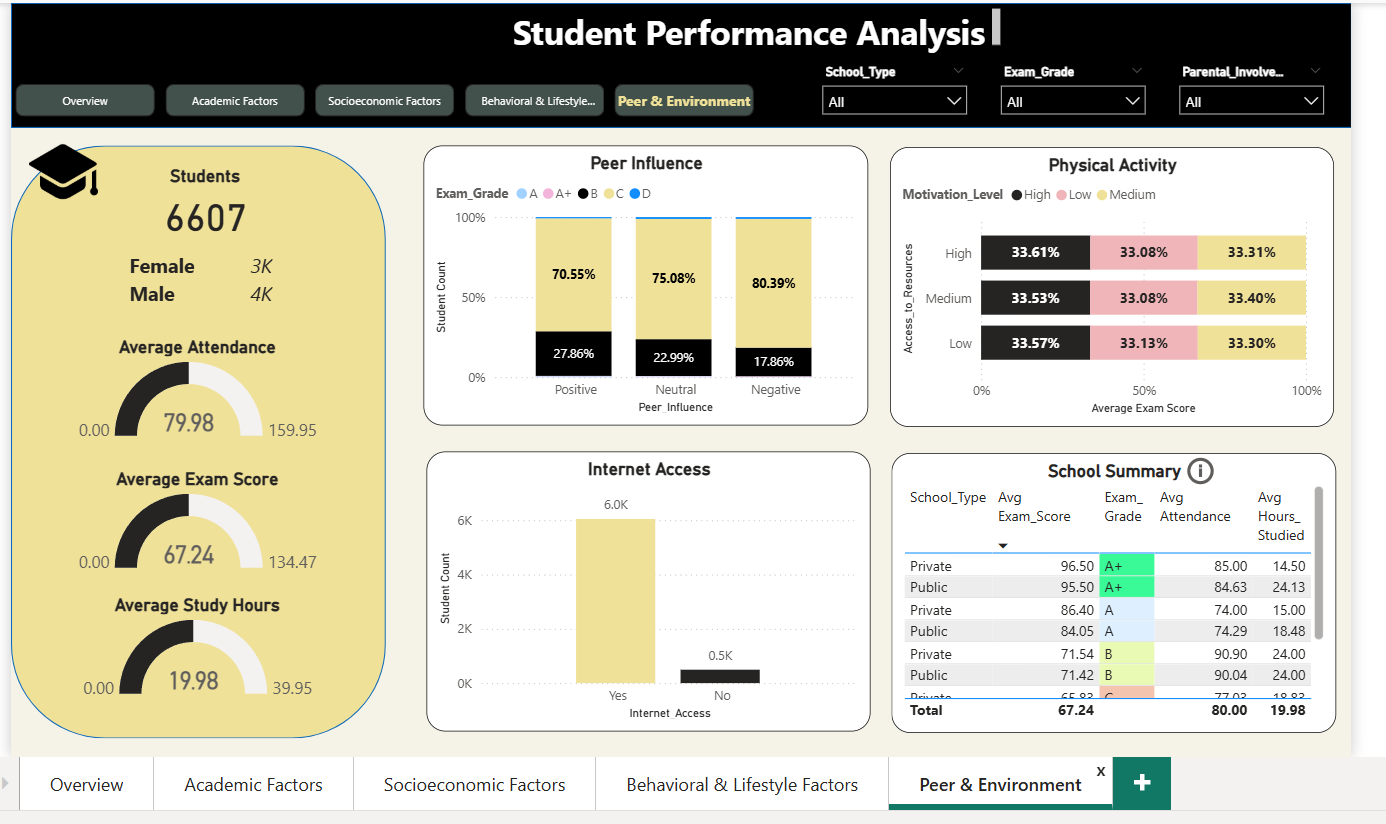

The page's visual inventory and layout, read from the dashboard file:
{"tool":"powerbi","page":{"name":"Peer & Environment","canvas":[1280,720],"ordinal":4},"visuals":[{"type":"shape","box":[0,136.8,357.9,566.3],"z":0},{"type":"group","id":"g1","title":"Group 1","box":[6.4,206.6,265.6,108.2],"z":0,"group":"g2"},{"type":"hundredPercentStackedColumnChart","title":"Peer Influence","fields":{"Category":["Students.Peer_Influence"],"Series":["Students.Exam_Grade"],"Y":["Students.Student Count"]},"box":[393.9,136.8,424.7,267.2],"z":1000},{"type":"card","title":"Students","fields":{"Values":["Students.Student Count"]},"box":[37,154.3,299,74.8],"z":1000,"group":"g2"},{"type":"cardVisual","title":"Students","fields":{"Data":["Students.Student Count"]},"box":[6.4,206.6,265.6,108.2],"z":1000,"group":"g1"},{"type":"hundredPercentStackedBarChart","title":"Physical Activity","fields":{"Category":["Students.Access_to_Resources"],"Y":["Students.Average Exam Score"],"Series":["Students.Motivation_Level"]},"box":[839.8,137.3,424.2,267.2],"z":2000},{"type":"gauge","fields":{"Y":["Students.Average Study Hours"]},"box":[16,564.7,324.5,105],"z":2000,"group":"g2"},{"type":"clusteredColumnChart","title":"Internet Access","fields":{"Category":["Students.Internet_Access"],"Y":["Students.Student Count"]},"box":[396.7,428.9,424.2,267.2],"z":3000},{"type":"gauge","fields":{"Y":["Students.Average Exam Score"]},"box":[16,443.8,324.5,105],"z":3000,"group":"g2"},{"type":"gauge","fields":{"Y":["Students.Average Attendance"]},"box":[16.3,318,324.5,105],"z":4000,"group":"g2"},{"type":"tableEx","title":"School Summary","fields":{"Values":["Students.School_Type","Avg(Students.Exam_Score)","Students.Exam_Grade","Avg(Students.Attendance)","Avg(Students.Hours_Studied)"]},"box":[841.4,429.5,424.7,267.2],"z":4000},{"type":"actionButton","box":[0,0,100,40],"z":5000},{"type":"shape","box":[0,0,1280.4,119.3],"z":6000},{"type":"slicer","fields":{"Values":["Students.Parental_Involvement"]},"box":[1106.5,52.5,158.1,57.3],"z":6000,"group":"g3"},{"type":"slicer","fields":{"Values":["Students.Exam_Grade"]},"box":[935.8,52.5,158.1,57.3],"z":7000,"group":"g3"},{"type":"group","id":"g2","title":"Group 2","box":[6.4,154.3,334,515.4],"z":7000},{"type":"slicer","fields":{"Values":["Students.School_Type"]},"box":[765.1,52.5,158.1,57.3],"z":8000,"group":"g3"},{"type":"image","box":[7.2,116,85.9,90.2],"z":8000},{"type":"pageNavigator","box":[4.8,77.9,707.8,31.8],"z":9000},{"type":"group","id":"g3","title":"Group 3","box":[765.1,52.5,499.5,57.3],"z":10000},{"type":"textbox","box":[474,0,475.6,55.7],"z":11000},{"type":"actionButton","box":[1118.7,429.7,38.7,34.4],"z":12000}]}

Visuals, with their boxes on the page's 1280x720 design canvas (x1, y1, x2, y2). These are canvas units, not pixel positions in the 1386x824 screenshot, which may show the page scaled, cropped or inside an application window:
shape: 0/137/358/703
"Group 1" group: 6/207/272/315
"Peer Influence" hundredPercentStackedColumnChart: 394/137/819/404
"Students" card: 37/154/336/229
"Students" cardVisual: 6/207/272/315
"Physical Activity" hundredPercentStackedBarChart: 840/137/1264/404
gauge - Students.Average Study Hours: 16/565/340/670
"Internet Access" clusteredColumnChart: 397/429/821/696
gauge - Students.Average Exam Score: 16/444/340/549
gauge - Students.Average Attendance: 16/318/341/423
"School Summary" tableEx: 841/430/1266/697
actionButton: 0/0/100/40
shape: 0/0/1280/119
slicer - Students.Parental_Involvement: 1106/52/1265/110
slicer - Students.Exam_Grade: 936/52/1094/110
"Group 2" group: 6/154/340/670
slicer - Students.School_Type: 765/52/923/110
image: 7/116/93/206
pageNavigator: 5/78/713/110
"Group 3" group: 765/52/1265/110
textbox: 474/0/950/56
actionButton: 1119/430/1157/464
